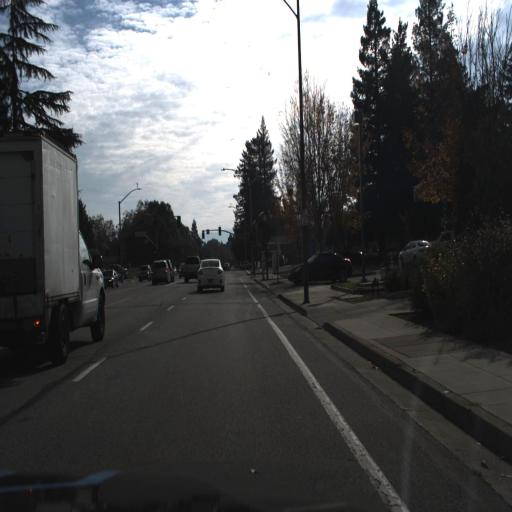car: (285, 248, 354, 287), (424, 224, 473, 259), (394, 235, 432, 271), (399, 238, 431, 277), (195, 253, 224, 290), (182, 253, 199, 281), (152, 260, 170, 286), (137, 261, 153, 287)
truck: (0, 125, 108, 381)
